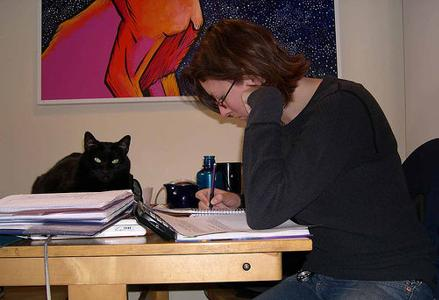person: (179, 18, 434, 300)
